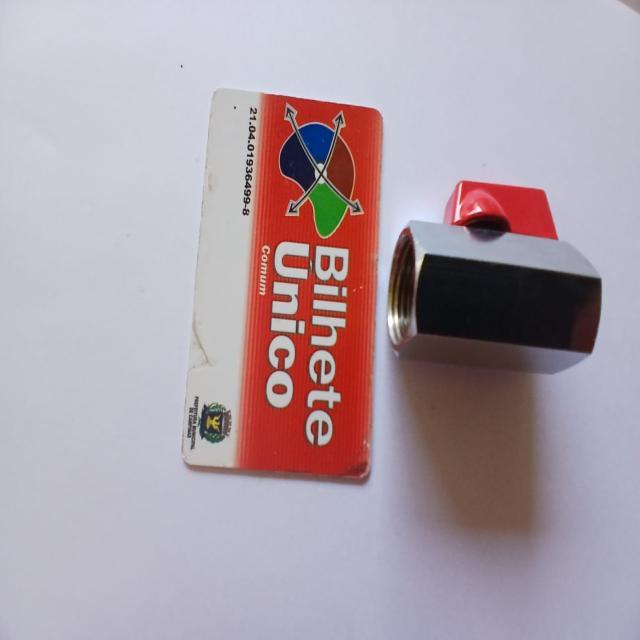cartao: (179, 72, 382, 489)
rosca_interna: (387, 180, 602, 373)
